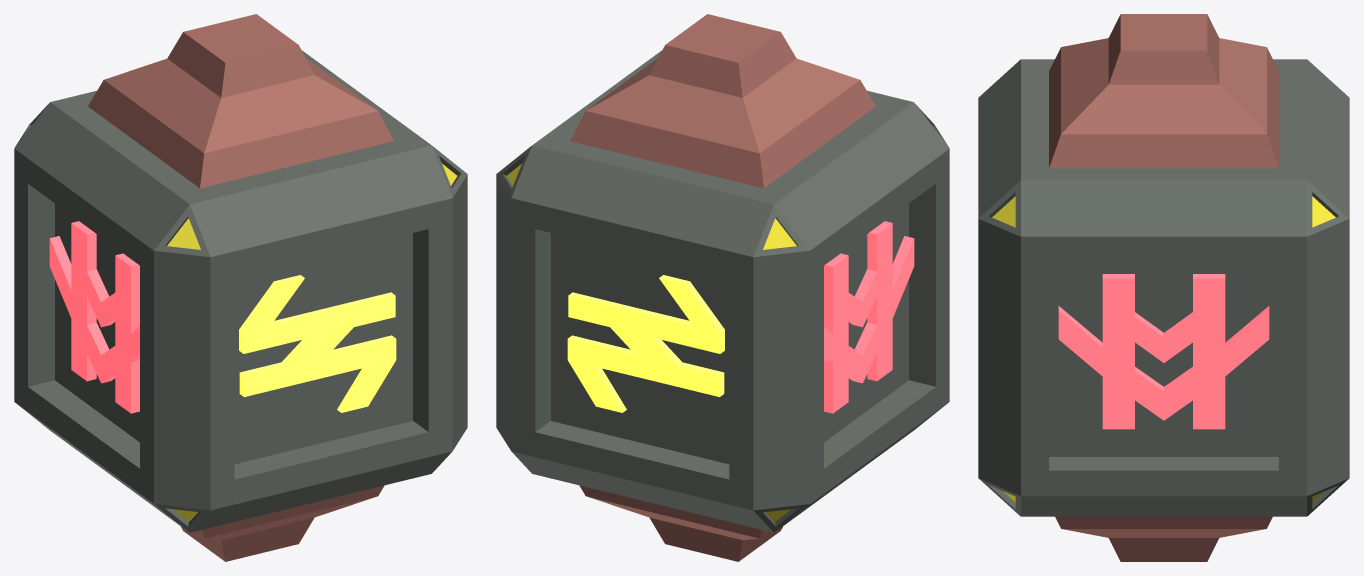
File: InimigoCubo.glb
3 views of the same model, side by side, from view 1: azimuth 30°, elevation 25°; view 2: azimuth 150°, elevation 25°; view 3: azimuth 270°, elevation 25° (orthographic). The views are drawn at different scales.
Parts seen in each view (by area): view 1: Corpo; view 2: Corpo; view 3: Corpo.
Boxes of the visible parts, x1,y1,x2,y2 form: Corpo: (14, 14, 467, 561); Corpo: (496, 14, 949, 561); Corpo: (978, 14, 1349, 561).
Size of the model in its own units: 0.3295 by 0.5006 by 0.3295.
